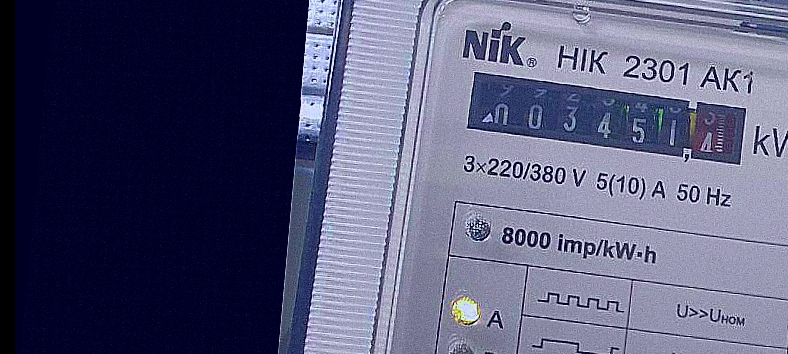0: (524, 101, 546, 131), (490, 98, 512, 127)
1: (663, 116, 682, 148)
3: (559, 101, 581, 134)
4: (593, 108, 615, 142), (695, 127, 717, 157)
5: (628, 113, 648, 146)
screen: (458, 66, 754, 173)
